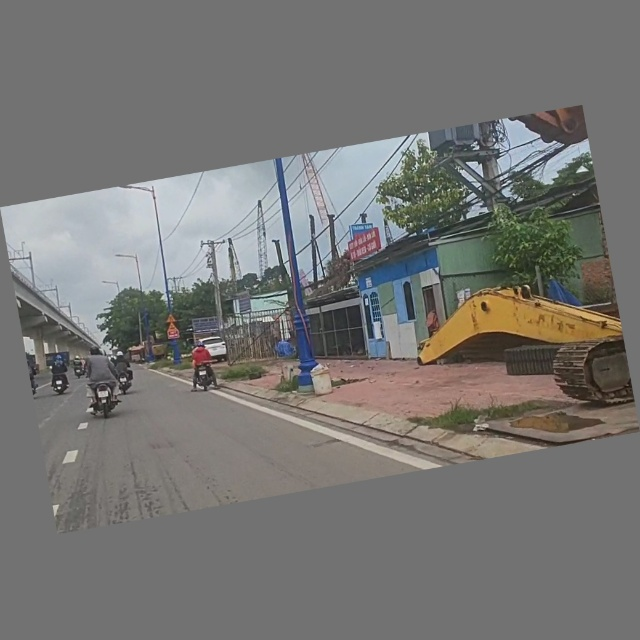W.203c: (164, 312, 178, 324)
W.245a: (166, 322, 180, 333)
